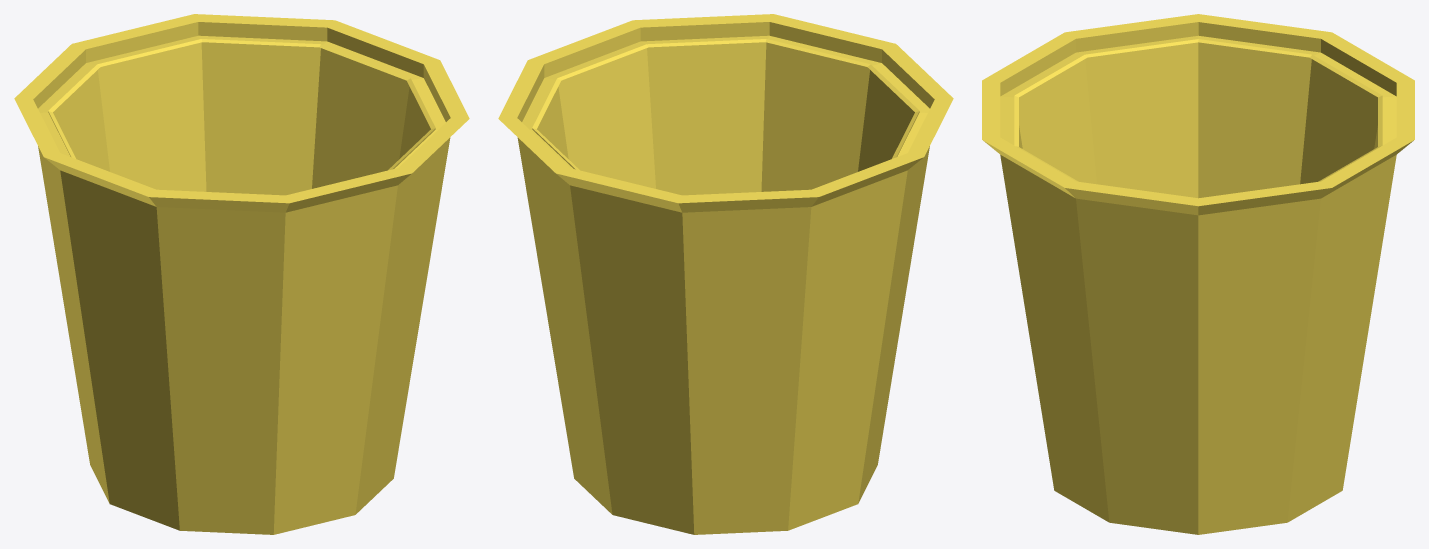
File: Basura_Plastico_Cubo.fbx
3 renders of one model, left to right at view 1: azimuth 30°, elevation 25°; view 2: azimuth 150°, elevation 25°; view 3: azimuth 270°, elevation 25°, orthographic.
Visible parts, largest first — view 1: Basura_Plastico_Cubo; view 2: Basura_Plastico_Cubo; view 3: Basura_Plastico_Cubo.
Part boxes in pixels (box(x1,y1,x2,y2)): Basura_Plastico_Cubo: box(14, 14, 469, 534); Basura_Plastico_Cubo: box(498, 14, 953, 534); Basura_Plastico_Cubo: box(982, 14, 1414, 534).
Bounding box in the file's own units: 1.2 × 1.05 × 1.14.
Materials: 1 (1 with a texture image).
